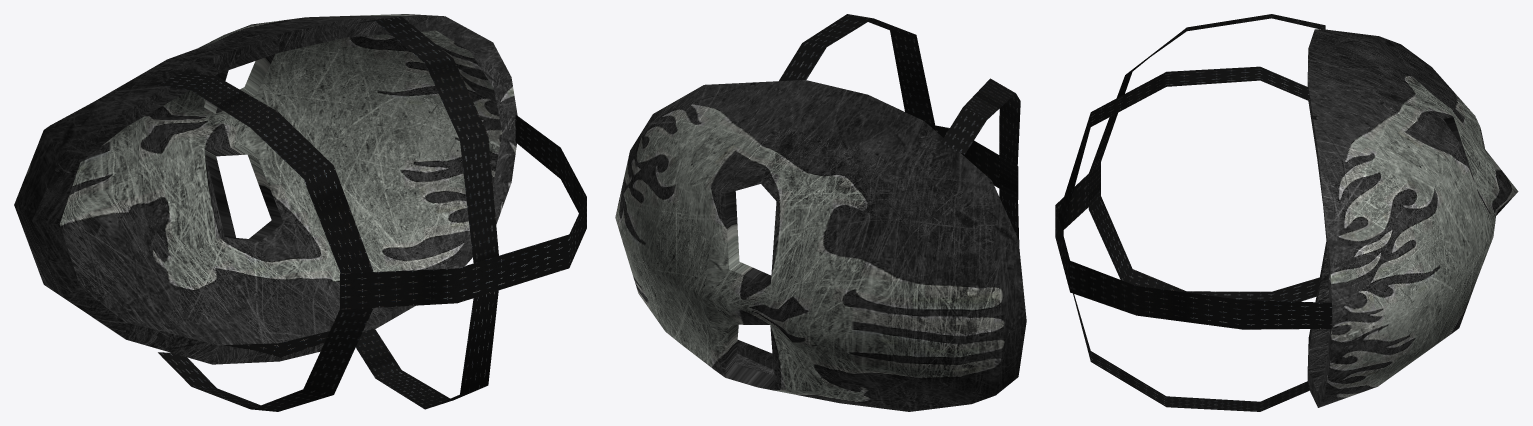
The model's file is tacticalmask_male.fbx.
3 renders of one model, left to right at view 1: azimuth 30°, elevation 25°; view 2: azimuth 150°, elevation 25°; view 3: azimuth 270°, elevation 25°, orthographic. The views are drawn at different scales.
Visible parts, largest first — view 1: M_TacticalMask; view 2: M_TacticalMask; view 3: M_TacticalMask.
Part boxes in pixels (box(x1,y1,x2,y2)): M_TacticalMask: box(14, 14, 586, 411); M_TacticalMask: box(615, 14, 1026, 411); M_TacticalMask: box(1055, 14, 1518, 411).
Size of the model in its own units: 0.172 by 0.1273 by 0.1594.
